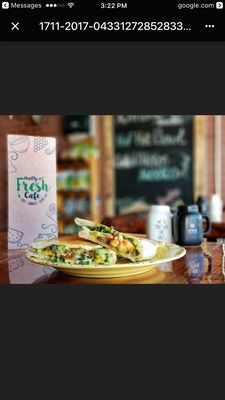burger: (179, 204, 204, 246)
